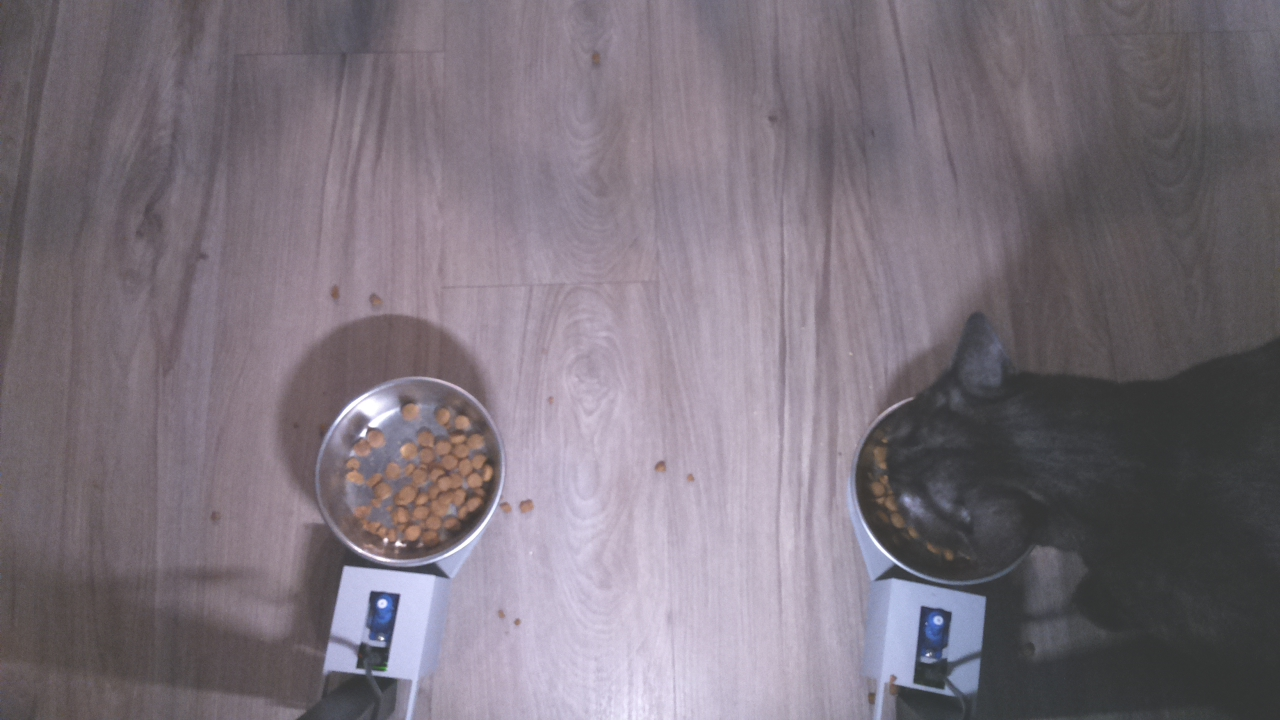open_bowl: (307, 362, 509, 571)
saki_eating: (848, 300, 1125, 603)
